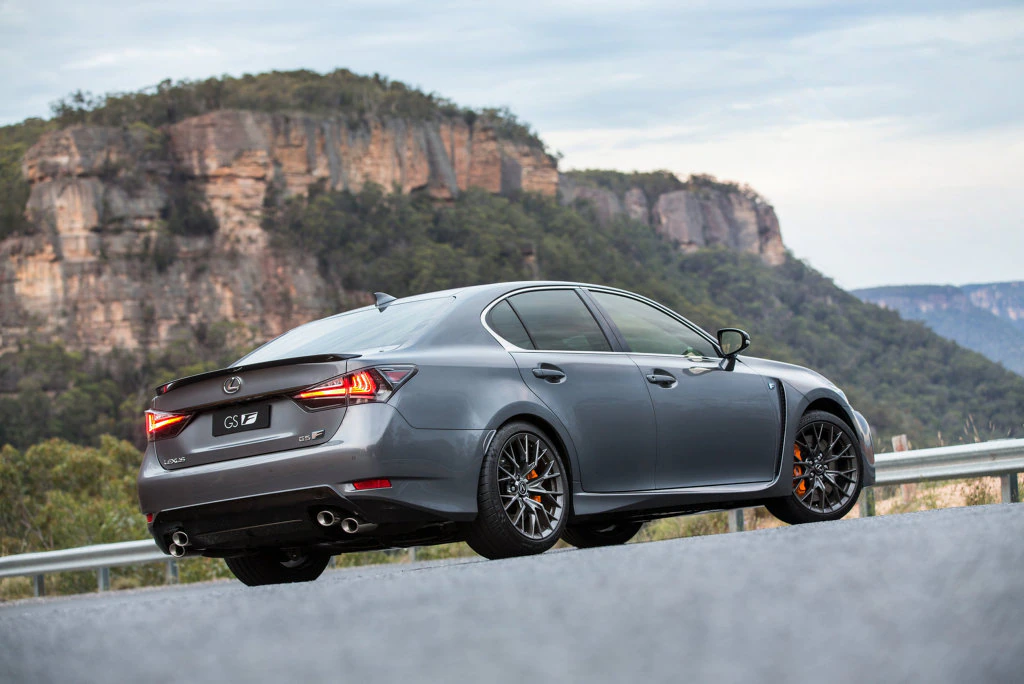car: (134, 276, 882, 590)
